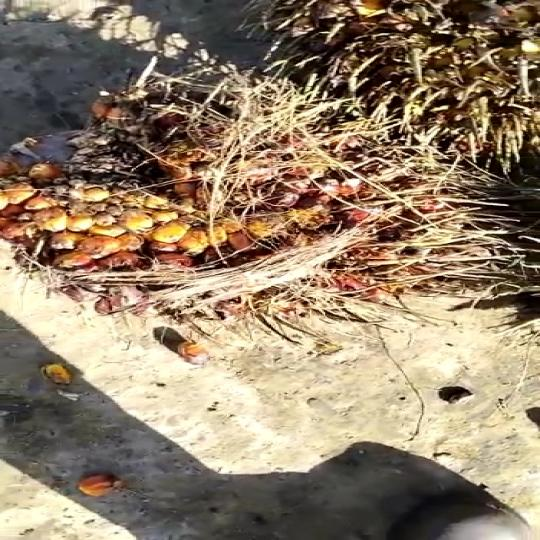terlalu masak: (0, 62, 508, 332)
